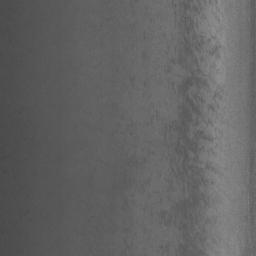Silk spot: (164, 0, 217, 256), (159, 211, 176, 226), (207, 45, 221, 58), (147, 110, 158, 126), (194, 232, 206, 246), (213, 88, 224, 102), (123, 175, 131, 188), (159, 242, 169, 252), (192, 250, 208, 256), (208, 104, 219, 112)
